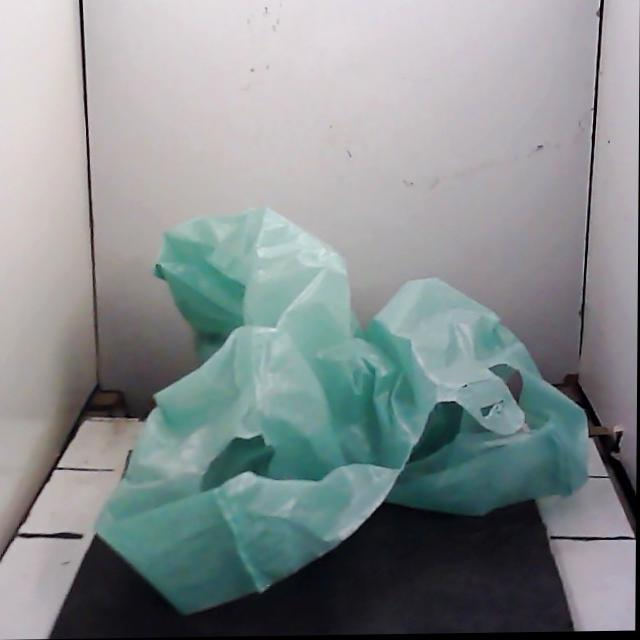plastico: (97, 209, 587, 612)
